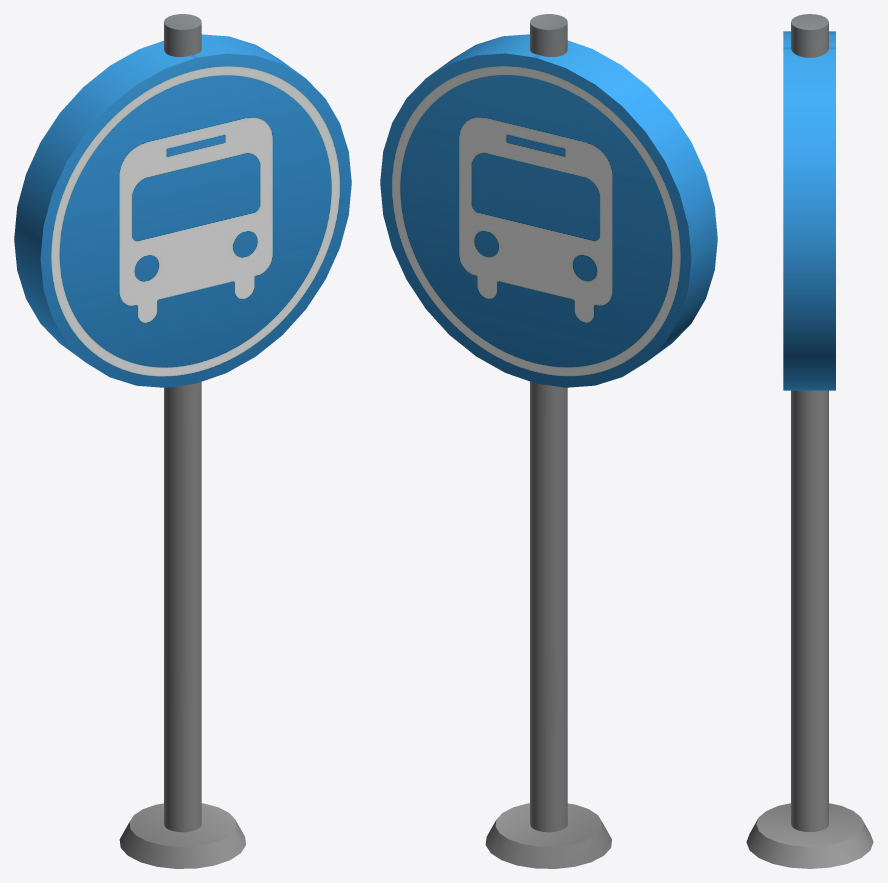
File: bus_sign.glb
3 views of the same model, side by side, from view 1: azimuth 30°, elevation 25°; view 2: azimuth 150°, elevation 25°; view 3: azimuth 270°, elevation 25° (orthographic).
Parts seen in each view (by area): view 1: Sign_0; view 2: Sign_0; view 3: Sign_0.
Part boxes in pixels (box(x1,y1,x2,y2)): Sign_0: box(14, 14, 351, 868); Sign_0: box(380, 14, 717, 868); Sign_0: box(746, 14, 873, 868).
Bounding box in the file's own units: 1.08 × 2.71 × 0.3808.
1 material, 1 textured.
